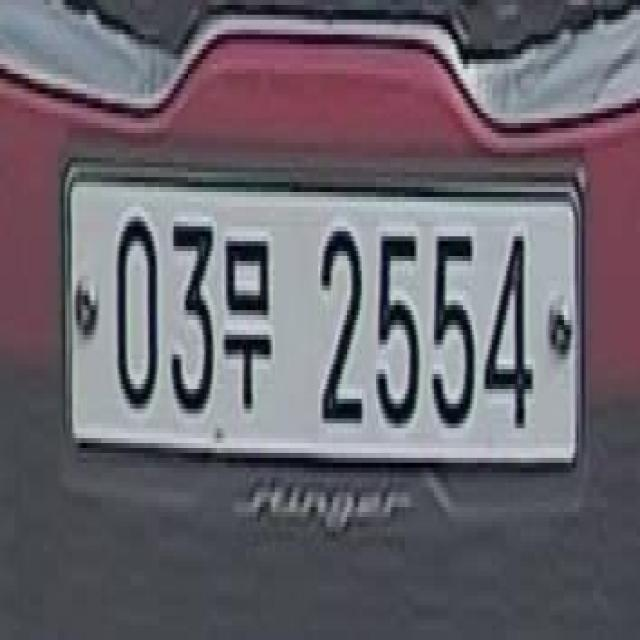illegal_plate: (64, 144, 592, 534)
